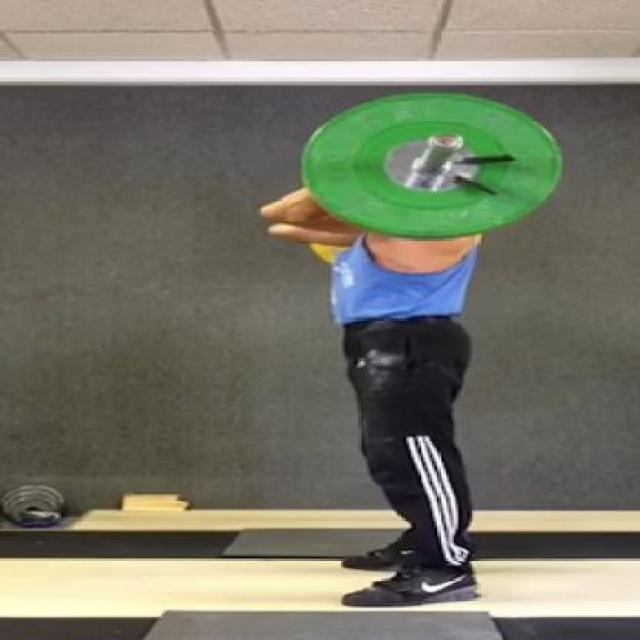Barbell: (426, 130, 468, 156)
